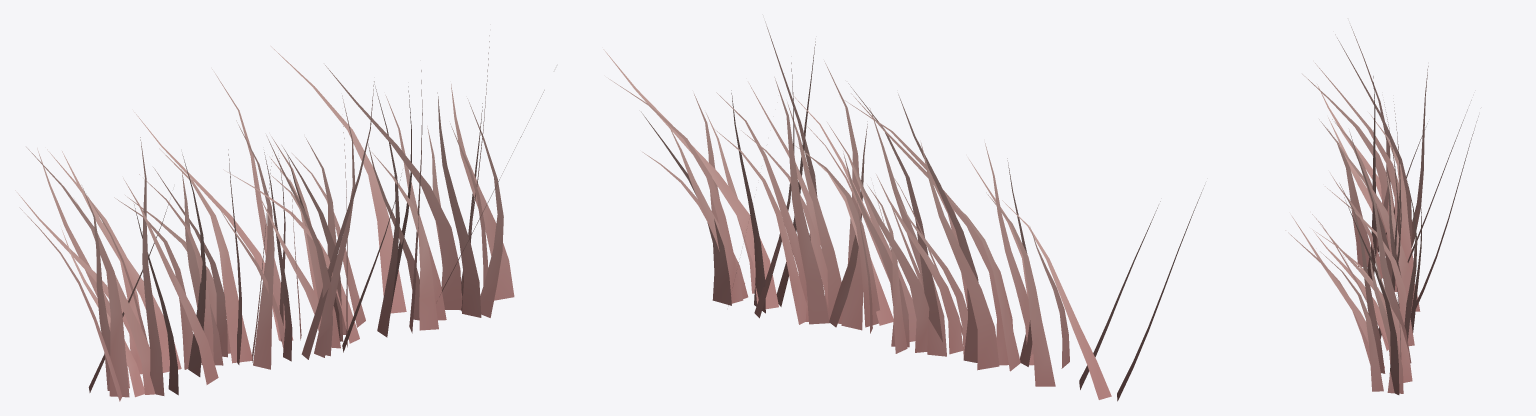
Rendered from mesh-plant-010-deepwater-lance_LOD1.glb.
3 views of the same model, side by side, from view 1: azimuth 30°, elevation 25°; view 2: azimuth 150°, elevation 25°; view 3: azimuth 270°, elevation 25° (orthographic). The views are drawn at different scales.
Parts seen in each view (by area): view 1: geometry_0; view 2: geometry_0; view 3: geometry_0.
Part boxes in pixels (x1,y1,x2,y2): geometry_0: (15, 35, 544, 401); geometry_0: (603, 21, 1204, 401); geometry_0: (1285, 25, 1478, 394).
Size of the model in its own units: 2.66 by 1.09 by 1.17.
